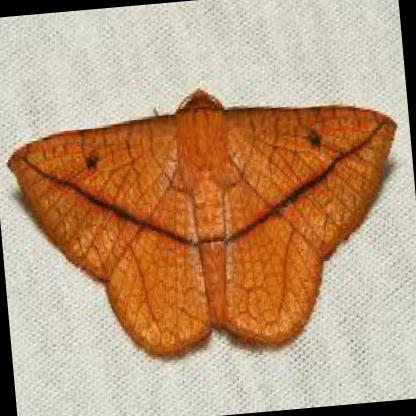Leaf Webber: (9, 85, 398, 359)
